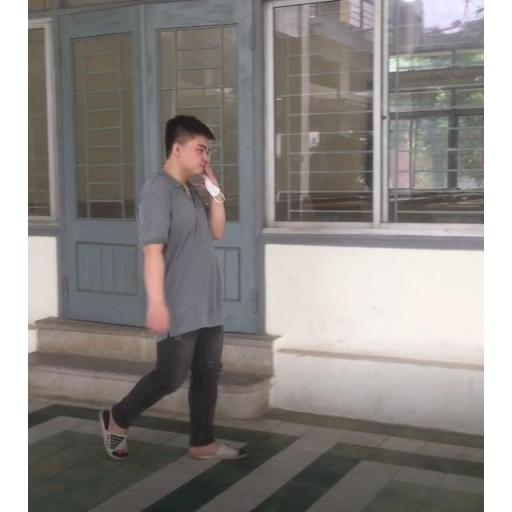Running: (98, 110, 252, 464)
